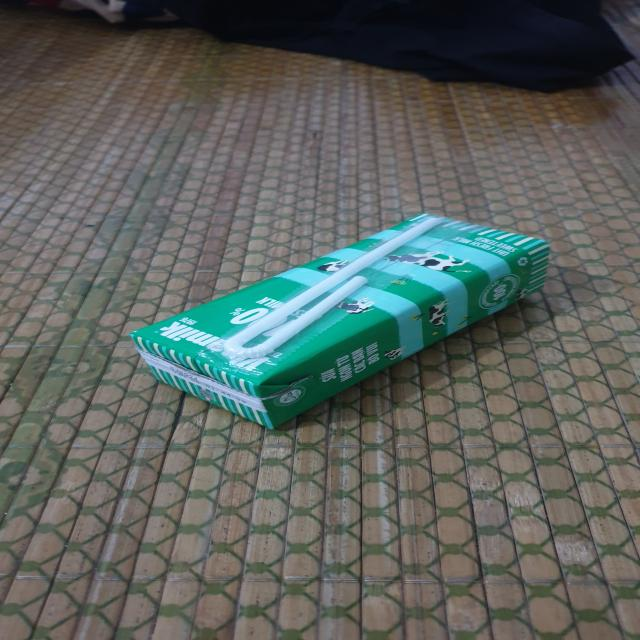Vina: (125, 212, 557, 436)
